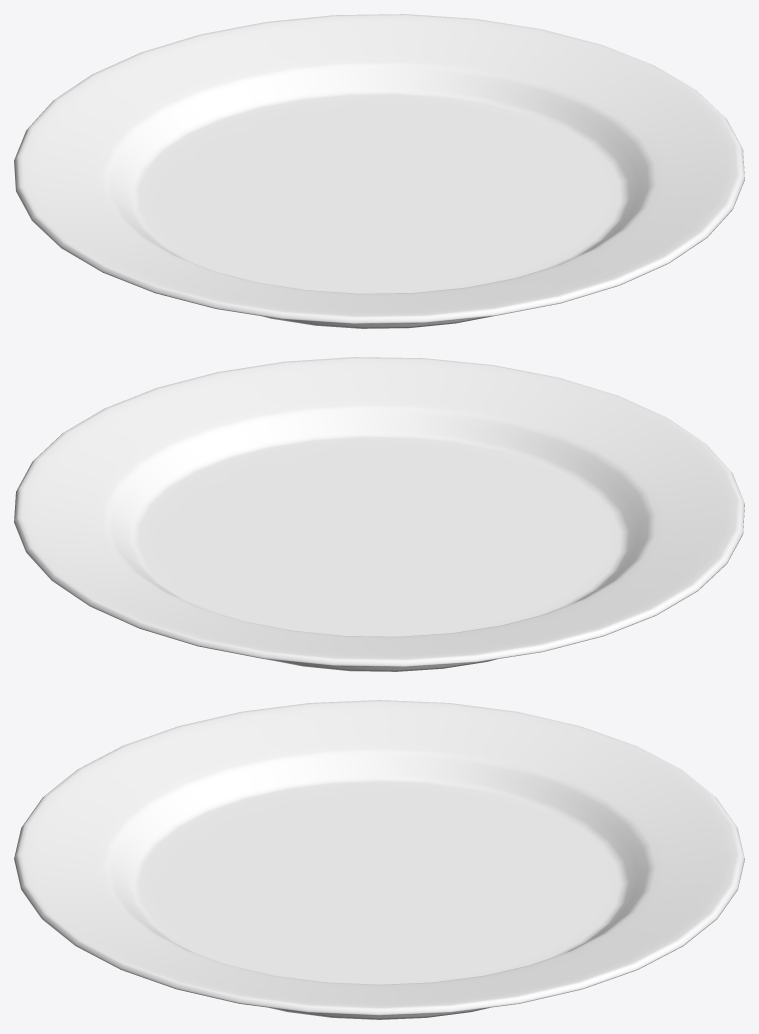
File: Dish 2.FBX
3 renders of one model, top to bottom at view 1: azimuth 30°, elevation 25°; view 2: azimuth 150°, elevation 25°; view 3: azimuth 270°, elevation 25°, orthographic.
Visible parts, largest first — view 1: dish 2; view 2: dish 2; view 3: dish 2.
Boxes of the visible parts, bbox=[...] form: dish 2: bbox=[14, 14, 744, 328]; dish 2: bbox=[14, 357, 744, 671]; dish 2: bbox=[14, 700, 744, 1019].
Bounding box in the file's own units: 39.05 × 3.62 × 38.56.
Materials: 1 (1 with a texture image).
